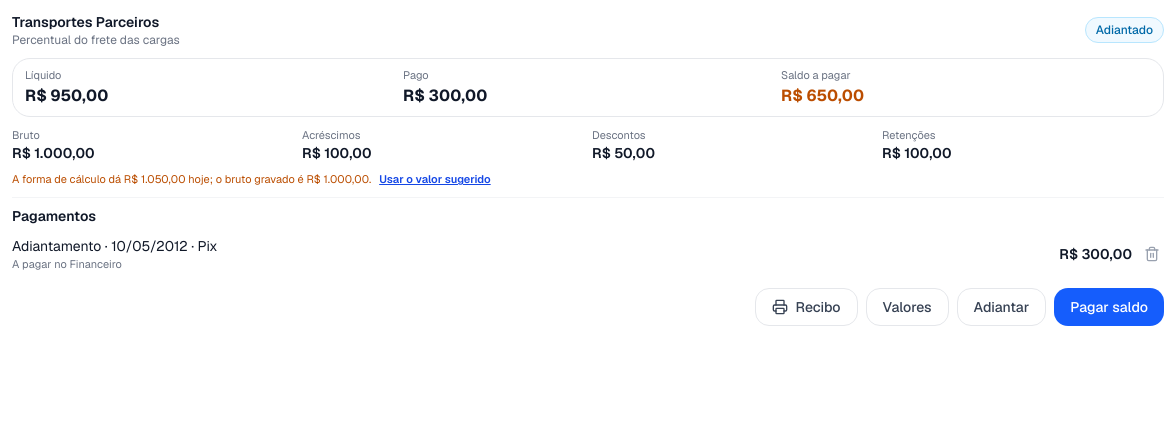
aba Frete da viagem › quem não confirma não paga: fica a frase da recusa e nenhum segundo pedido
Click the button "Pagar saldo" at (1109, 307), box [1054,288,1164,326]
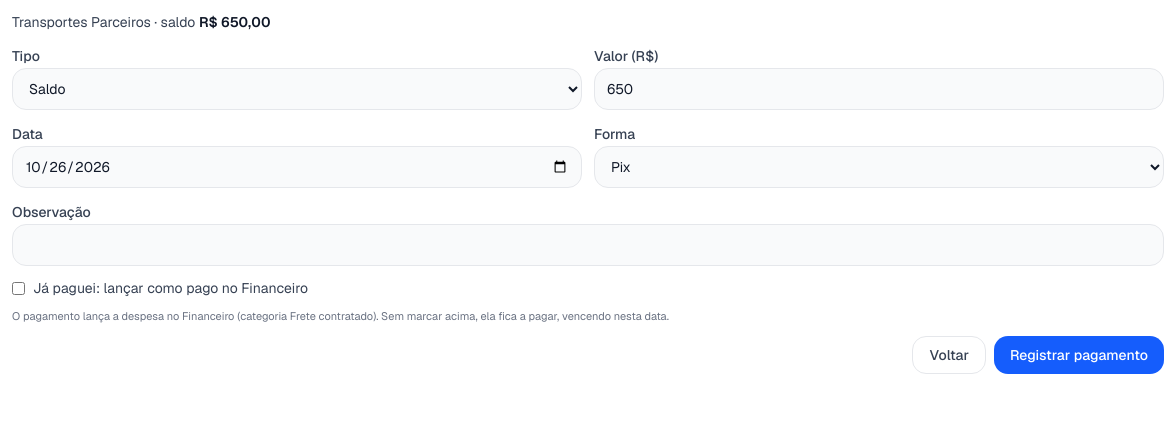
Submit the form
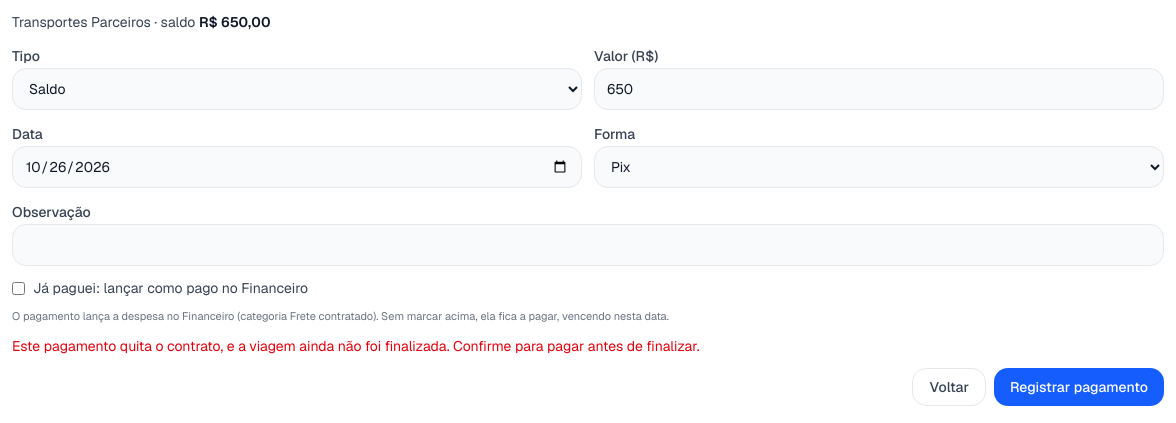
Expected: the message shows "Este pagamento quita o contrato, e a viagem ainda não foi finalizada. Confirme para pagar antes de finalizar.", [12,337,700,355]
